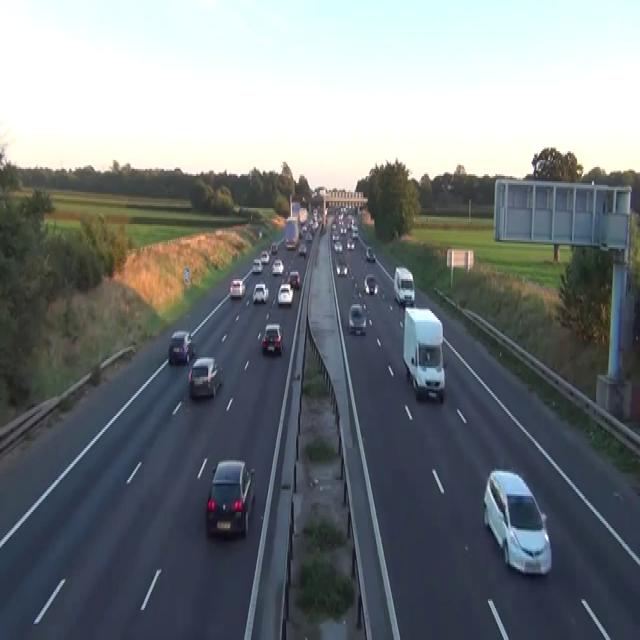Car: (483, 468, 552, 576), (205, 458, 255, 538), (187, 356, 222, 398), (168, 329, 195, 364), (261, 324, 283, 354), (348, 302, 366, 334), (277, 282, 293, 306), (229, 277, 245, 299), (252, 283, 268, 302), (364, 274, 377, 293), (288, 270, 300, 288), (271, 258, 283, 274), (336, 262, 348, 276), (365, 246, 375, 262), (252, 258, 263, 272), (285, 236, 296, 249), (260, 249, 269, 263), (298, 242, 306, 256), (334, 240, 343, 252), (346, 238, 355, 249), (331, 231, 339, 242), (270, 242, 278, 252), (305, 231, 312, 242), (351, 228, 358, 238), (339, 226, 346, 234), (301, 224, 307, 233), (299, 228, 304, 238), (331, 222, 336, 231), (259, 230, 262, 238)
Truck: (402, 306, 445, 402), (393, 265, 415, 306), (284, 215, 298, 249)
